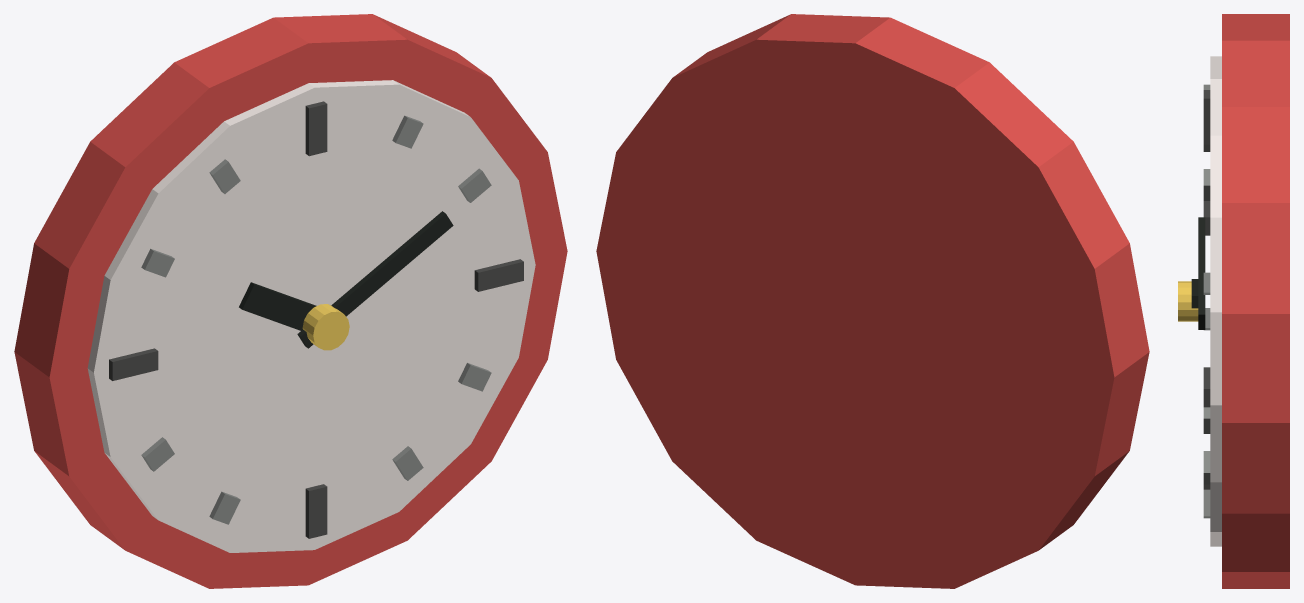
Rendered from wall_clock.glb.
The picture shows the model from 3 angles, left to right: view 1: azimuth 30°, elevation 25°; view 2: azimuth 150°, elevation 25°; view 3: azimuth 270°, elevation 25°; orthographic projection. The views are drawn at different scales.
Visible parts, largest first — view 1: wall_clock; view 2: wall_clock; view 3: wall_clock.
Part boxes in pixels (x1,y1,x2,y2): wall_clock: (14,14,567,588); wall_clock: (596,14,1149,588); wall_clock: (1178,14,1289,588).
Bounding box in the file's own units: 0.34 × 0.34 × 0.066.
1 material, 1 textured.
